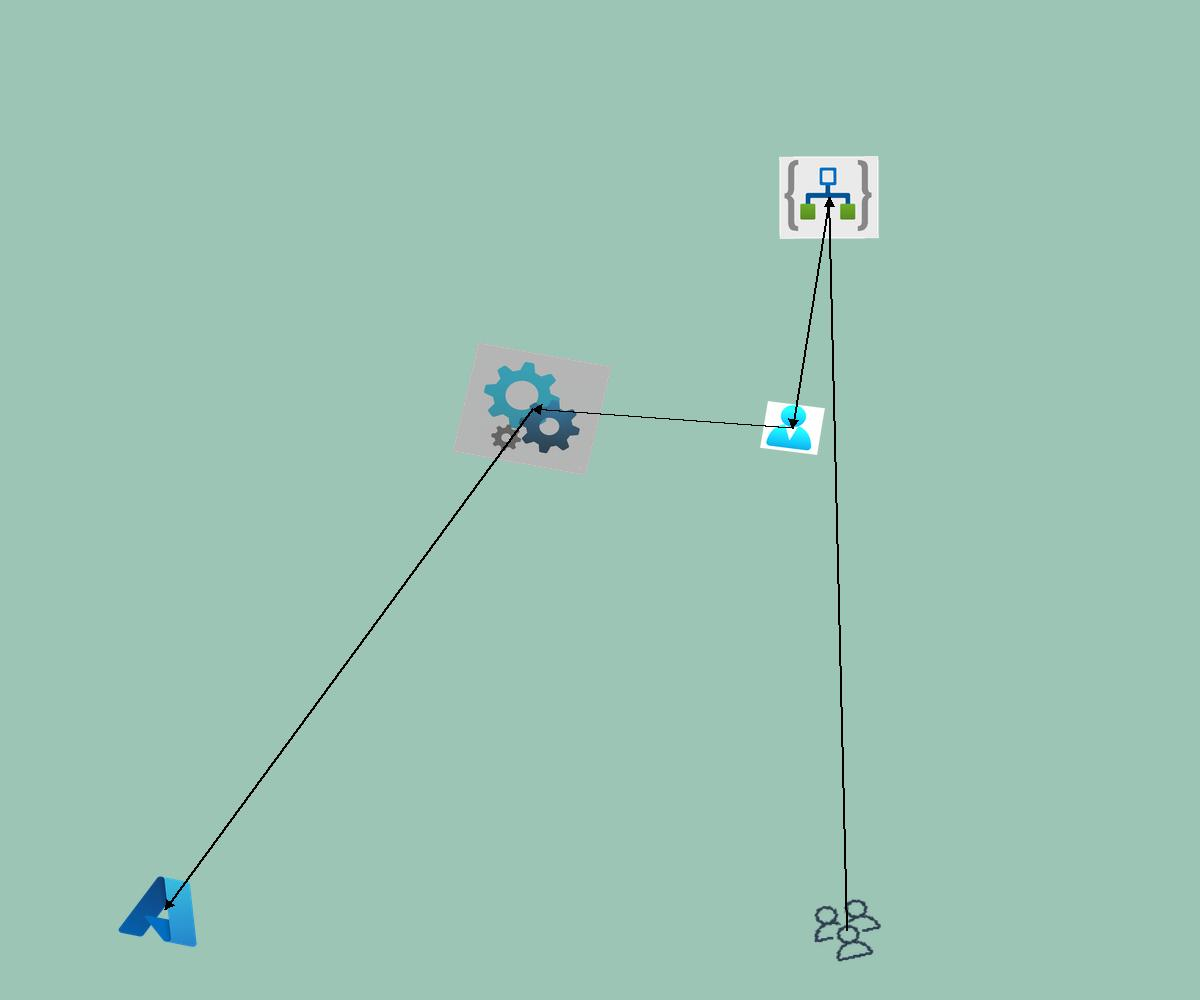AWS-Res_Users: (801, 892, 893, 969)
Azure_api: (452, 342, 612, 476)
Azure_integration-204-Logic-Apps: (779, 156, 879, 239)
Azure_services: (113, 866, 218, 953)
Azure_users: (760, 401, 825, 455)
